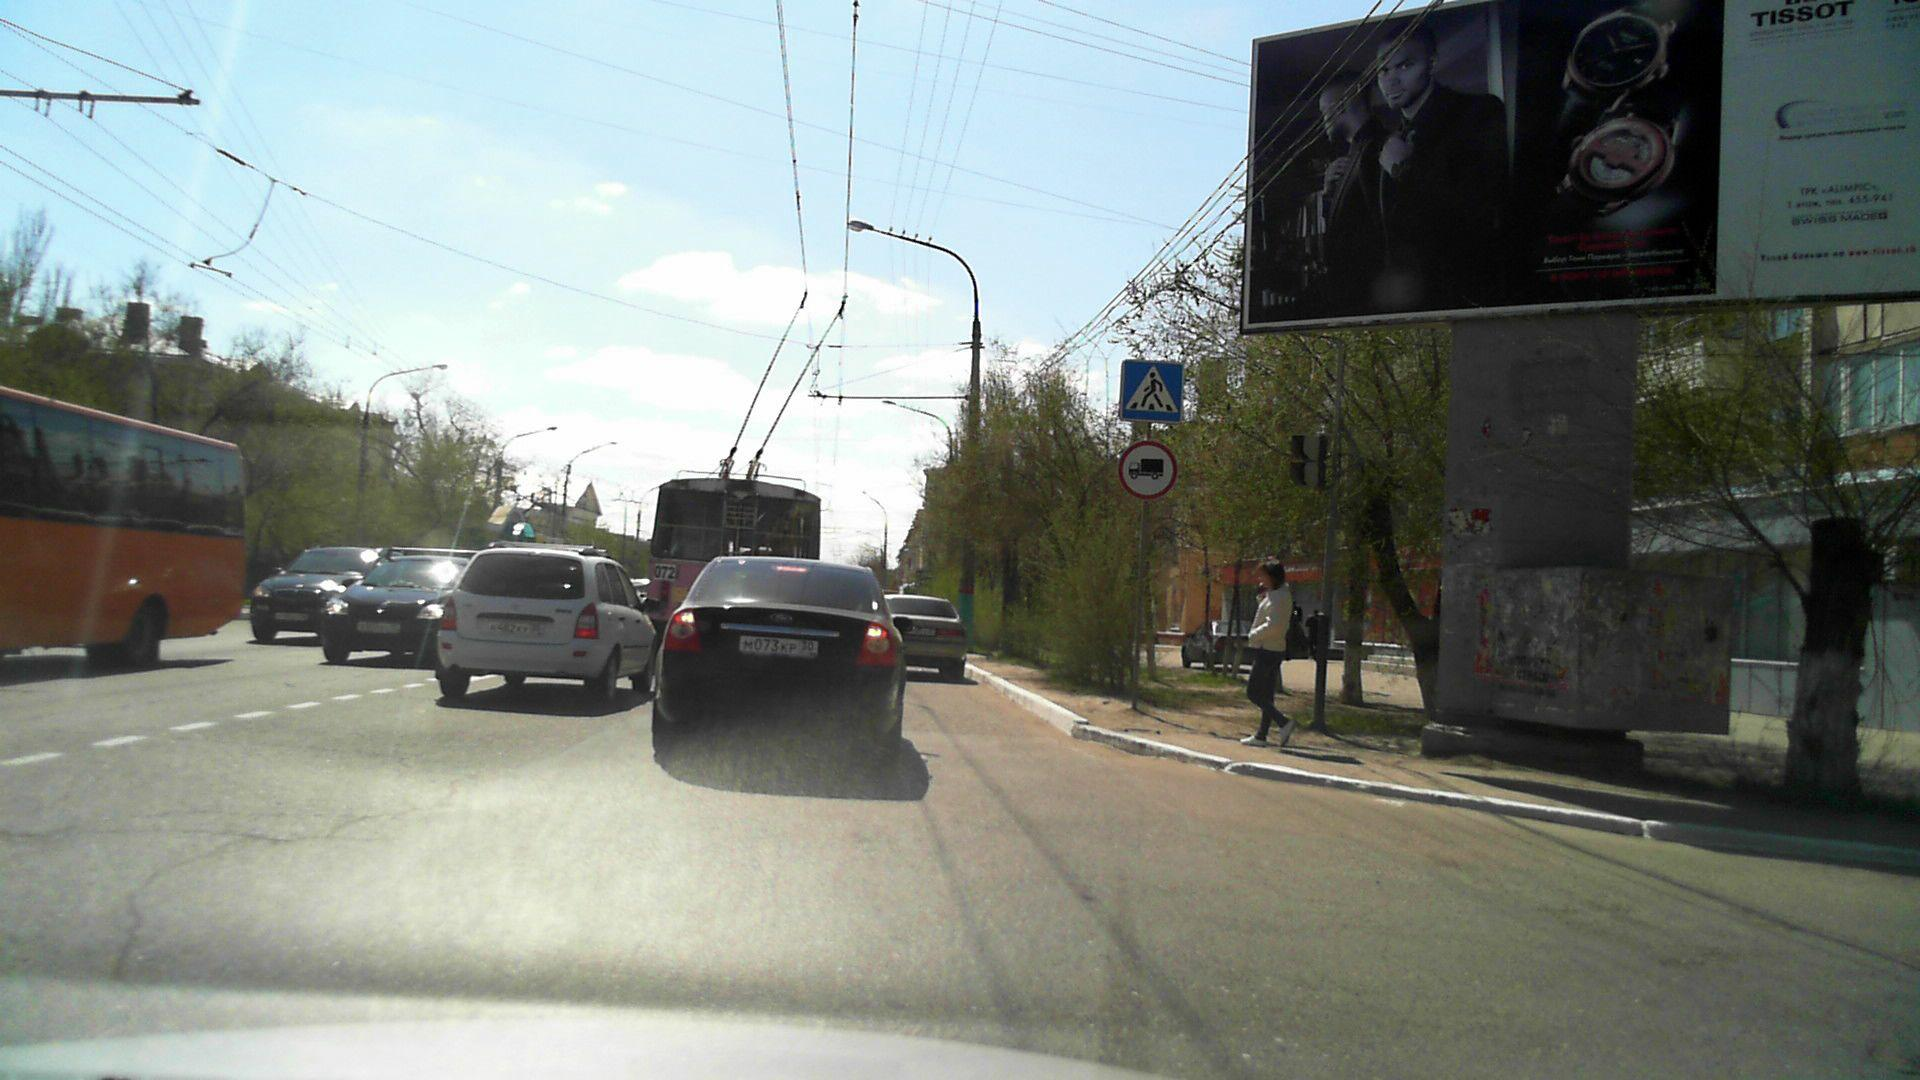3_4: (1118, 439, 1176, 498)
5_19_1: (1121, 359, 1183, 423)
